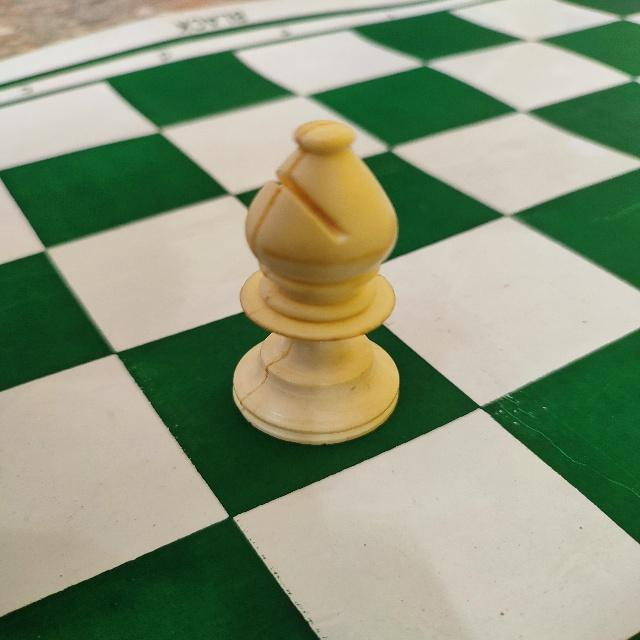Bishop: (222, 112, 405, 452)
